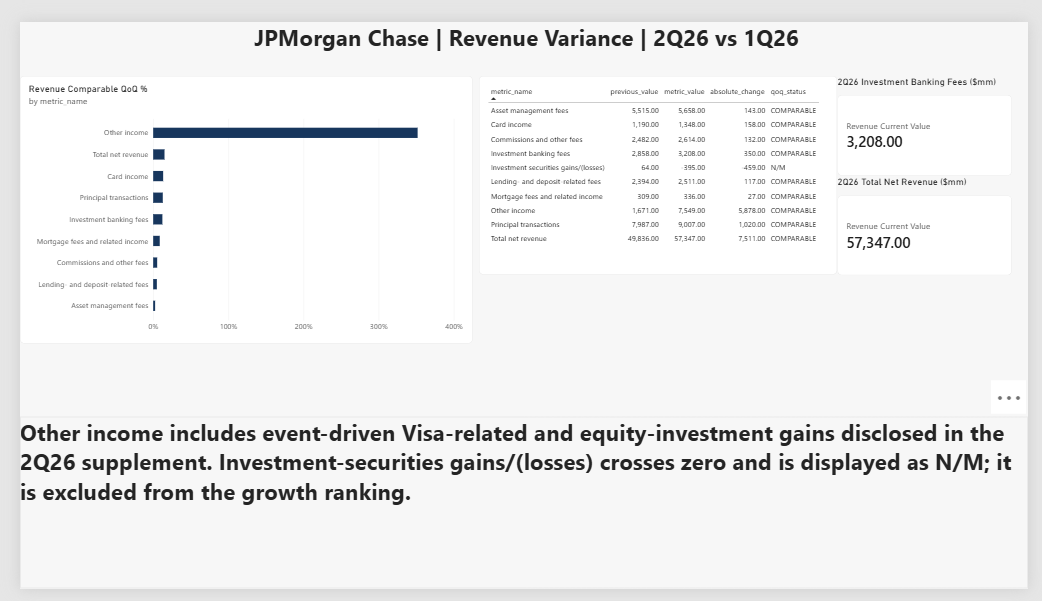

This screenshot's page, from the dashboard's own definition file:
{"tool":"powerbi","page":{"name":"Revenue Variance","canvas":[1920,1080],"ordinal":0},"visuals":[{"type":"textbox","box":[11.8,0,1907.2,82.9],"z":0},{"type":"cardVisual","title":"2Q26 Total Net Revenue ($mm)","fields":{"Data":["fact_metric_value.Revenue Current Value"]},"box":[1557.1,294.3,332,188],"z":1000},{"type":"cardVisual","title":"2Q26 Investment Banking Fees ($mm)","fields":{"Data":["fact_metric_value.Revenue Current Value"]},"box":[1556,104,332,190],"z":2000},{"type":"clusteredBarChart","fields":{"Category":["vw_revenue_latest_qoq.metric_name"],"Y":["fact_metric_value.Revenue Comparable QoQ %"]},"box":[0,103.7,861.8,509.4],"z":3000},{"type":"tableEx","fields":{"Values":["vw_revenue_latest_qoq.metric_name","vw_revenue_latest_qoq.previous_value","vw_revenue_latest_qoq.metric_value","vw_revenue_latest_qoq.absolute_change","vw_revenue_latest_qoq.qoq_status"]},"box":[874,104,682,378],"z":4000},{"type":"textbox","box":[0,750,1920,330],"z":5000}]}

Visuals, with their boxes in screenshot pixels (x1, y1, x2, y2), scaled from the page's 1920x1080 canvas onto the 1042x601 screenshot:
textbox: [6, 0, 1041, 46]
"2Q26 Total Net Revenue ($mm)" cardVisual: [845, 164, 1025, 268]
"2Q26 Investment Banking Fees ($mm)" cardVisual: [844, 58, 1025, 164]
clusteredBarChart - vw_revenue_latest_qoq.metric_name x fact_metric_value.Revenue Comparable QoQ %: [0, 58, 468, 341]
tableEx - vw_revenue_latest_qoq.metric_name x vw_revenue_latest_qoq.previous_value: [474, 58, 844, 268]
textbox: [0, 417, 1041, 600]
